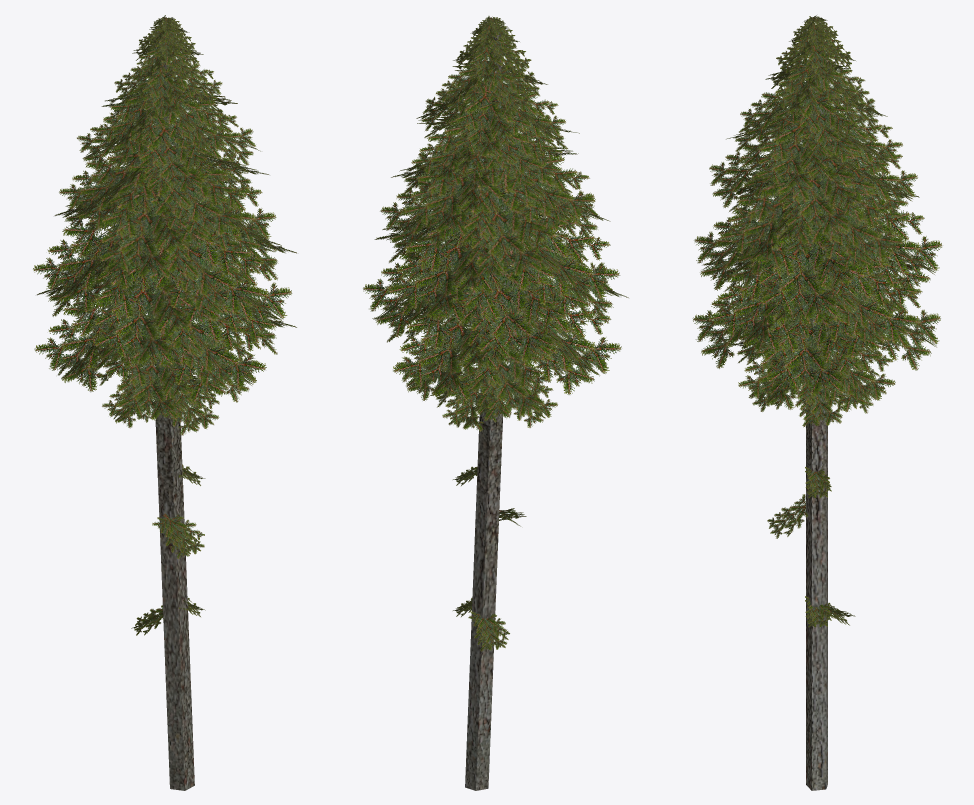
The model's file is fir_v2.glb.
The picture shows the model from 3 angles, left to right: view 1: azimuth 30°, elevation 25°; view 2: azimuth 150°, elevation 25°; view 3: azimuth 270°, elevation 25°; orthographic projection.
Parts seen in each view (by area): view 1: fir_tree; view 2: fir_tree; view 3: fir_tree.
Boxes of the visible parts, x1,y1,x2,y2 form: fir_tree: (33,15,296,790); fir_tree: (363,16,628,790); fir_tree: (692,15,942,790).
Size of the model in its own units: 6.31 by 18.51 by 6.24.
1 material, 1 textured.
